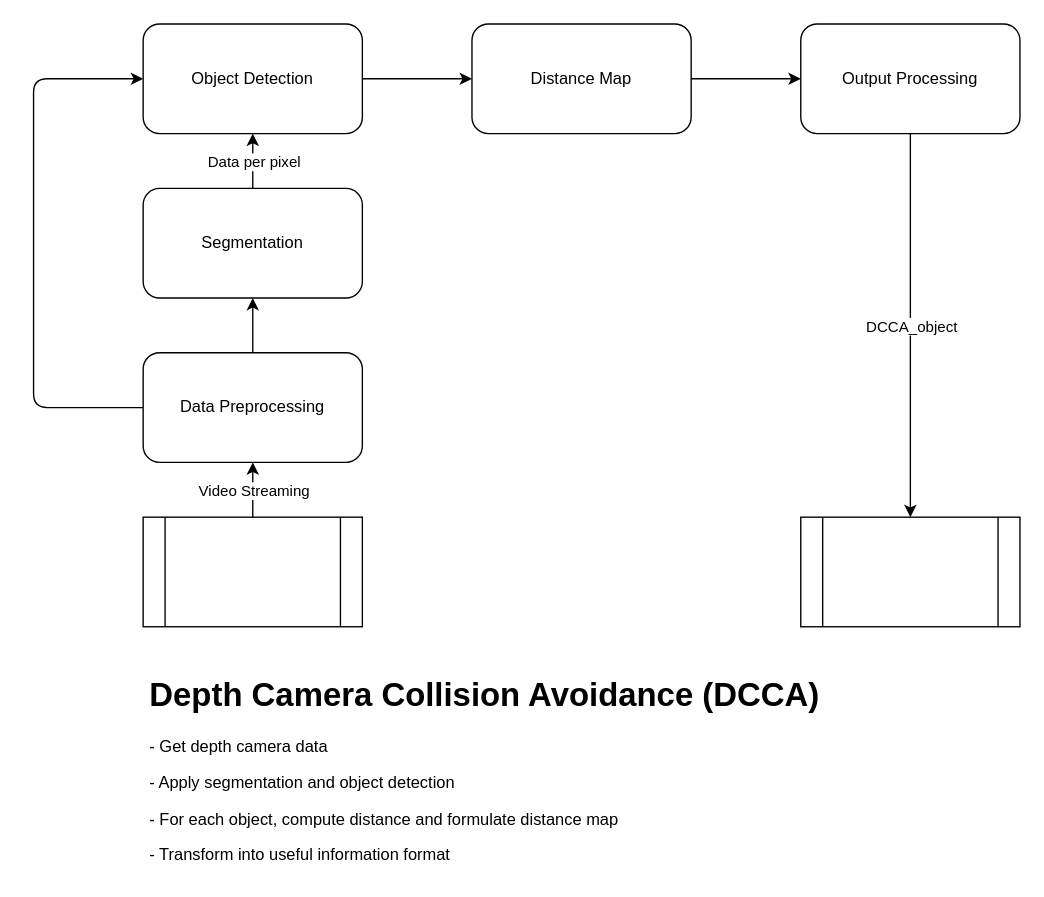
Image size: 1044x897. Some labels were removed from this diagram. The shapes that lost their labels are listed below. From the top down, each one's centre as x and y in pixels, then its label:
At [252,571]: "Depth Camera".
At [909,571]: "Robot/Info".
